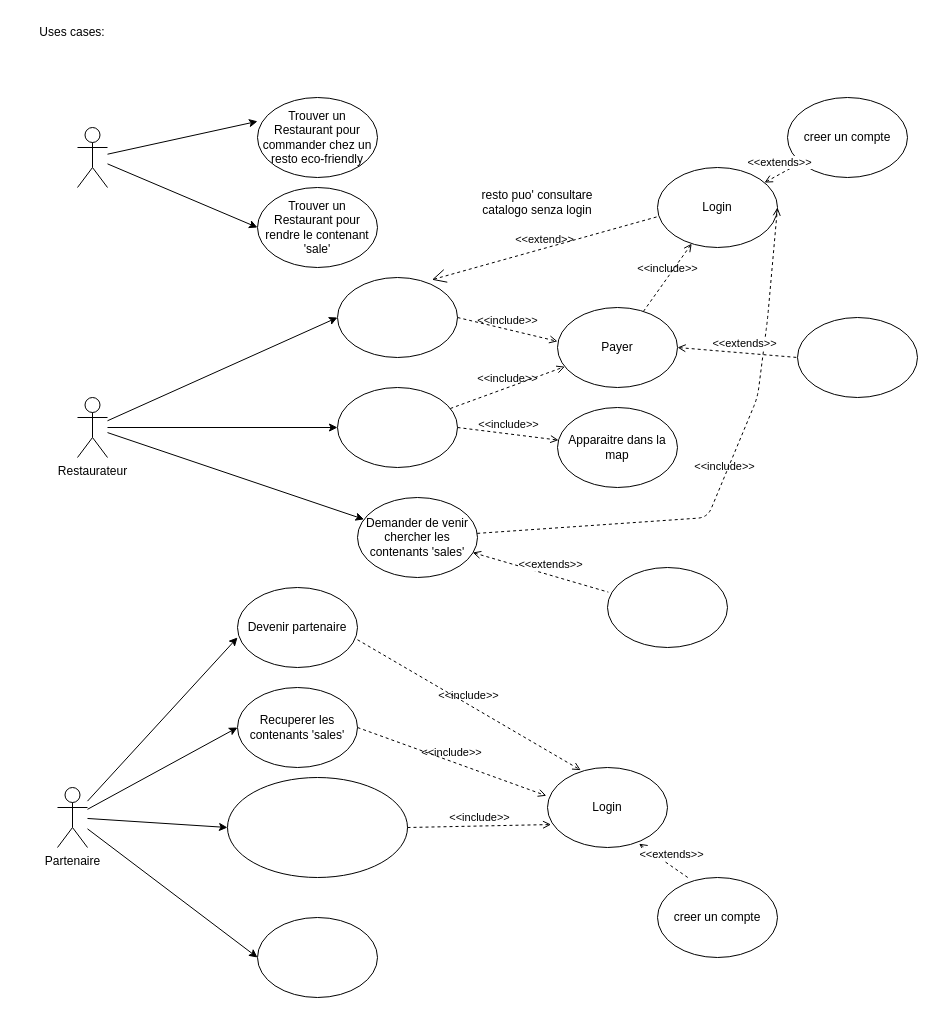
Image size: 935x1015. Some labels were removed from this diagram. The shapes that lost their labels are listed below. From the top down, each one's box as (x1, y1, x2, y2) in pixels, then its label:
(76, 126, 108, 188): Consommateur
(336, 276, 458, 358): Acheter les produits
(796, 316, 918, 398): Fournir une facture detaillé
(336, 386, 458, 468): Louer les produits
(606, 566, 728, 648): Rendre l'argent
(226, 776, 408, 878): remplire une liste détaillée Restaurant -> types de contenants et quantités
(256, 916, 378, 998): Envoyer les contenants 'sales'
